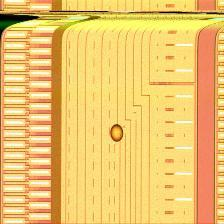PARTICLE: (109, 123, 127, 146)
